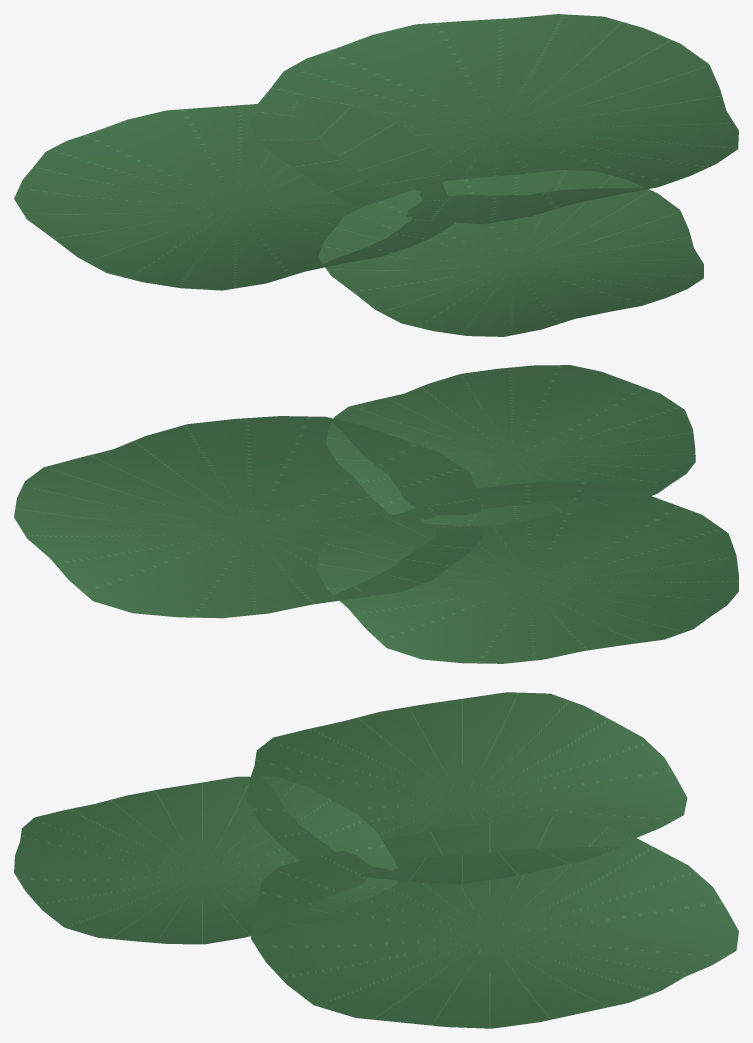
The model's file is CP03-L03-leaf-trio.glb.
3 views of the same model, one above another, from view 1: azimuth 30°, elevation 25°; view 2: azimuth 150°, elevation 25°; view 3: azimuth 270°, elevation 25° (orthographic). The views are drawn at different scales.
Parts seen in each view (by area): view 1: CP03-L03-leaf-trio; view 2: CP03-L03-leaf-trio; view 3: CP03-L03-leaf-trio.
Part boxes in pixels (<box>): CP03-L03-leaf-trio: <box>14,14,738,336</box>; CP03-L03-leaf-trio: <box>14,365,738,663</box>; CP03-L03-leaf-trio: <box>14,692,738,1028</box>.
Bounding box in the file's own units: 2.3 × 0.06 × 2.12.
1 material, 1 textured.
